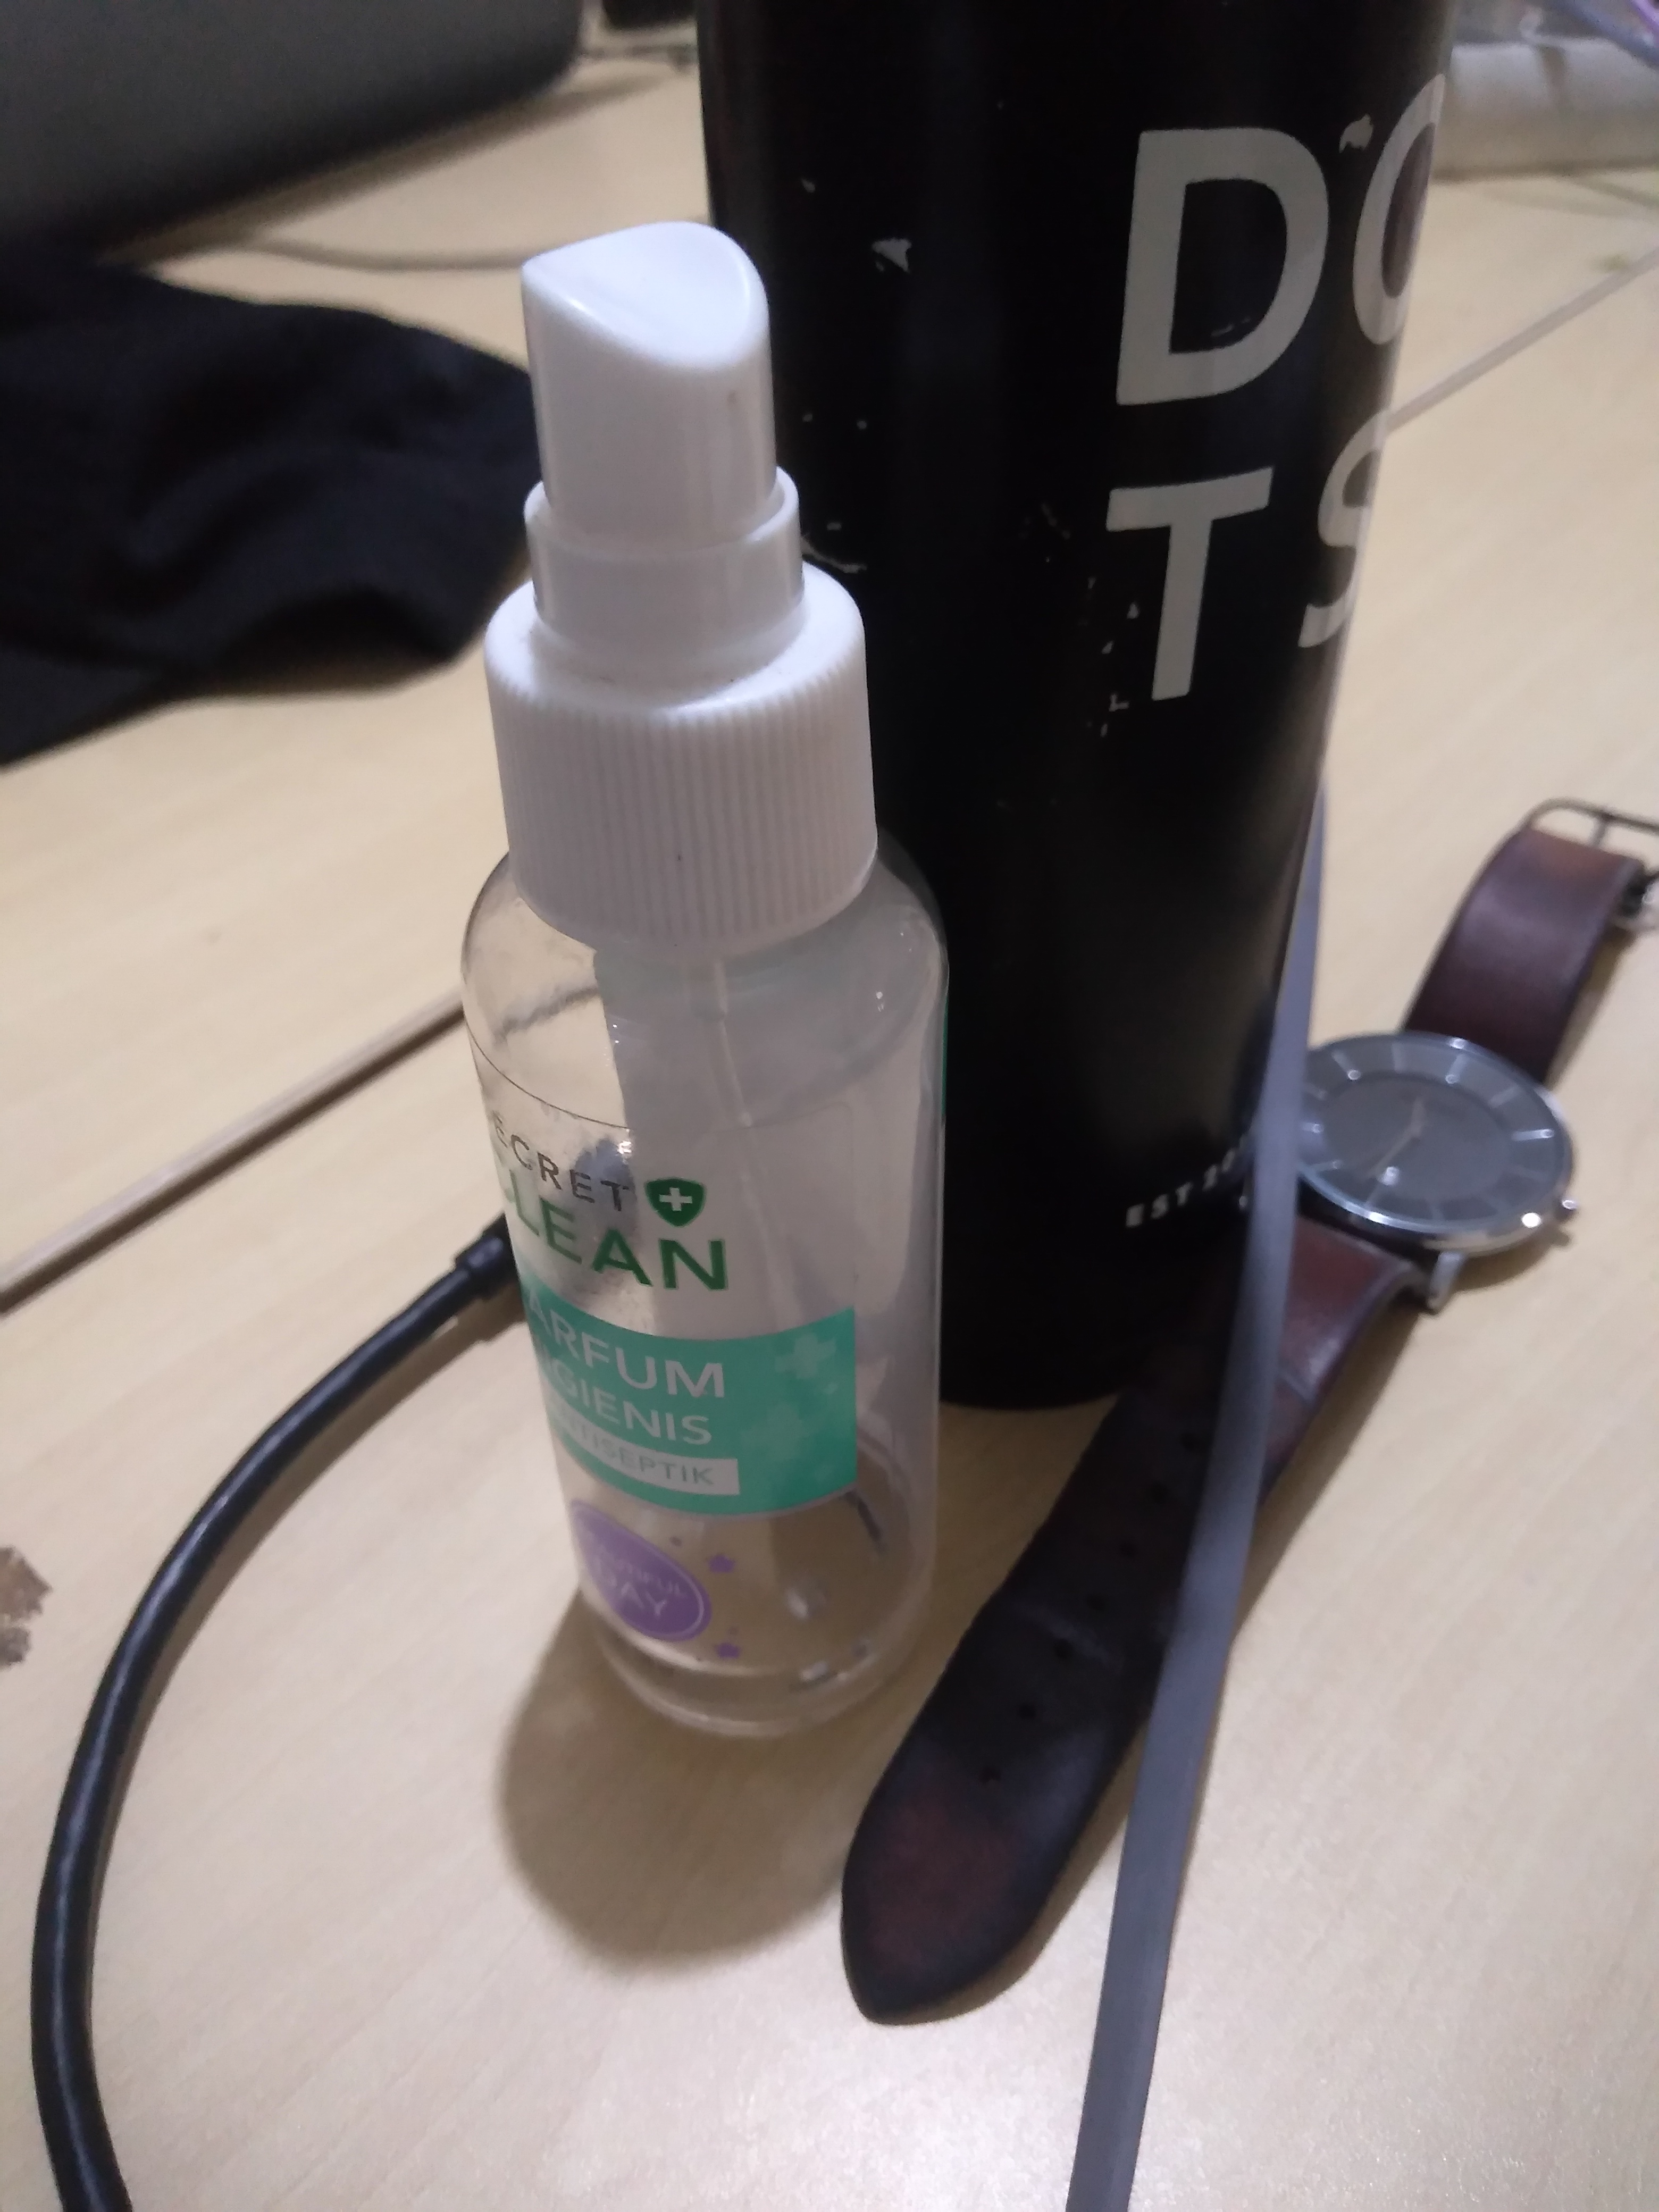hand sanitizer: (382, 206, 1035, 1770)
